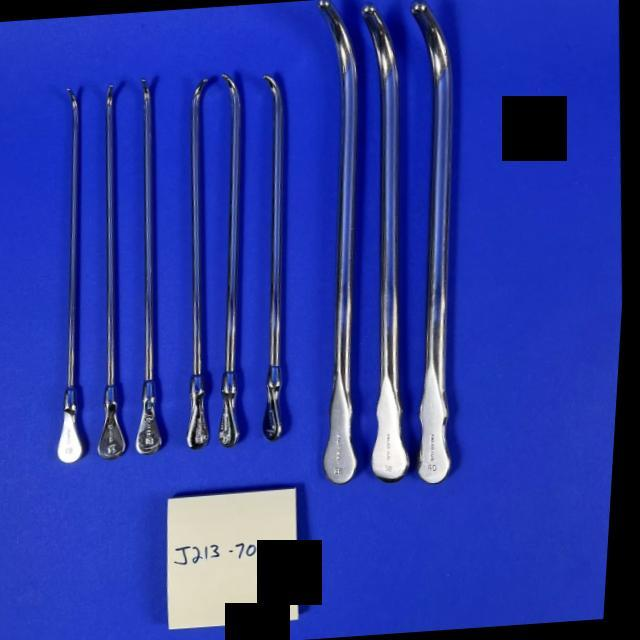Urethral Dilators: (385, 0, 497, 487), (335, 0, 444, 485), (290, 0, 393, 492), (28, 84, 120, 466), (236, 65, 316, 453), (161, 65, 238, 452), (117, 68, 192, 458), (194, 63, 267, 451), (84, 83, 148, 462)
